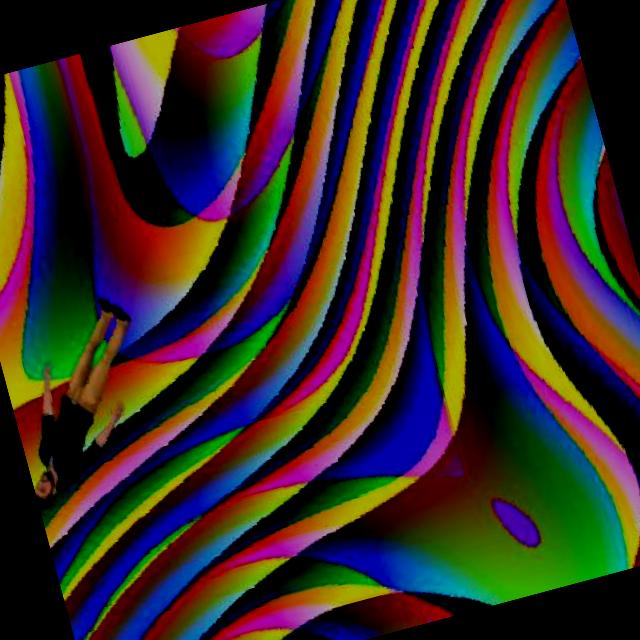Person: (0, 288, 173, 511)
